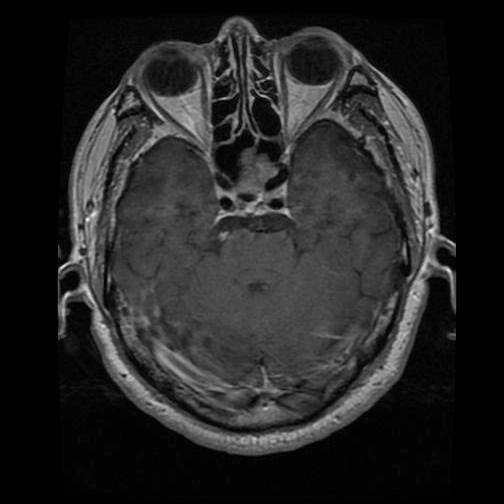Tumour-Pituitary: (198, 162, 310, 232)
